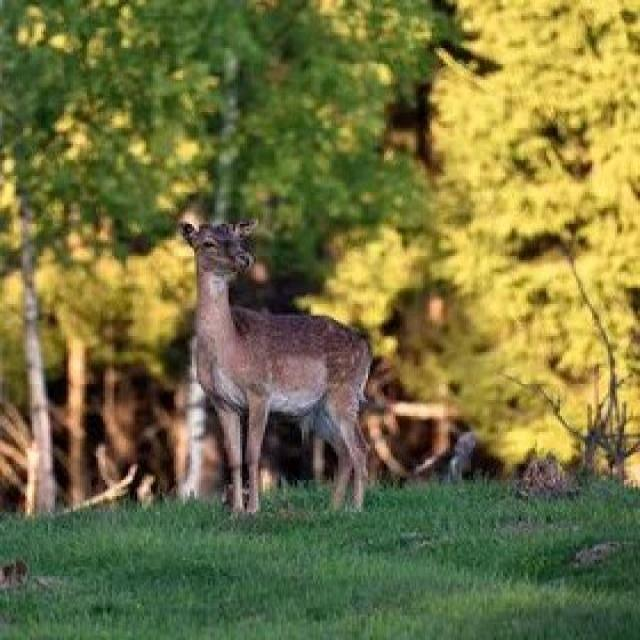deer: (173, 237, 411, 510)
